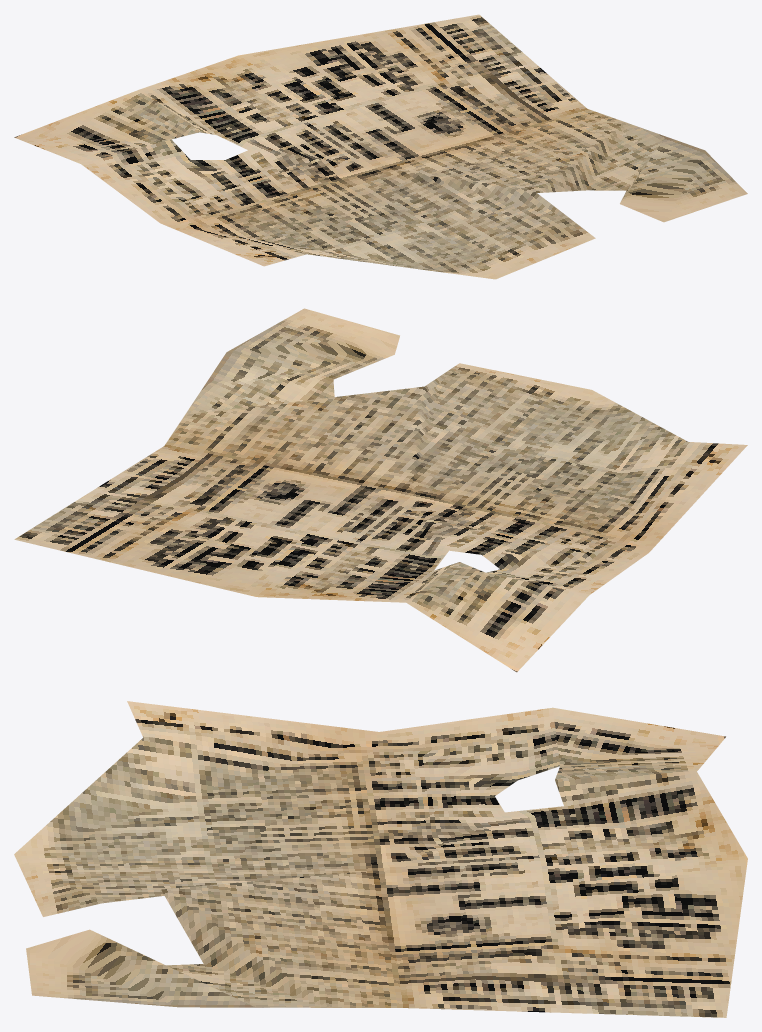
Rendered from Paper1.glb.
3 views of the same model, one above another, from view 1: azimuth 30°, elevation 25°; view 2: azimuth 150°, elevation 25°; view 3: azimuth 270°, elevation 25° (orthographic). The views are drawn at different scales.
Parts seen in each view (by area): view 1: Paper12; view 2: Paper12; view 3: Paper12.
Boxes of the visible parts, x1,y1,x2,y2 form: Paper12: [14, 14, 747, 279]; Paper12: [14, 308, 747, 672]; Paper12: [14, 701, 747, 1017].
Size of the model in its own units: 0.9488 by 0.0686 by 0.9723.
1 material, 1 textured.
